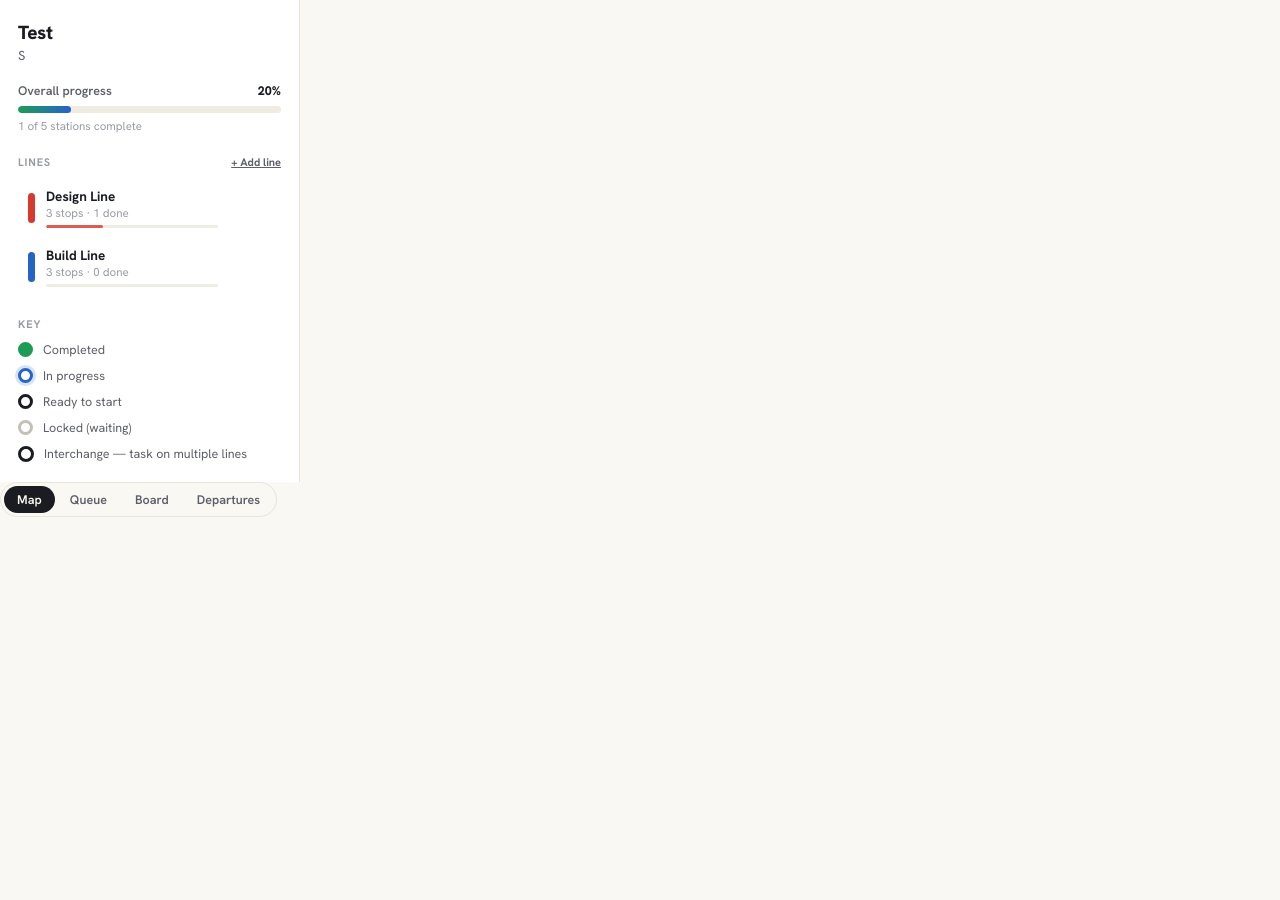
Scenario: line filtering on the boards › Board fades the stations off the selected line by default
This screenshot has width=1280, height=900.
Expected: the element with class "lines-list" is shown, x1=18 y1=179 x2=228 y2=295
Click the button "Board" at [152, 500], box x1=122 y1=486 x2=182 y2=513
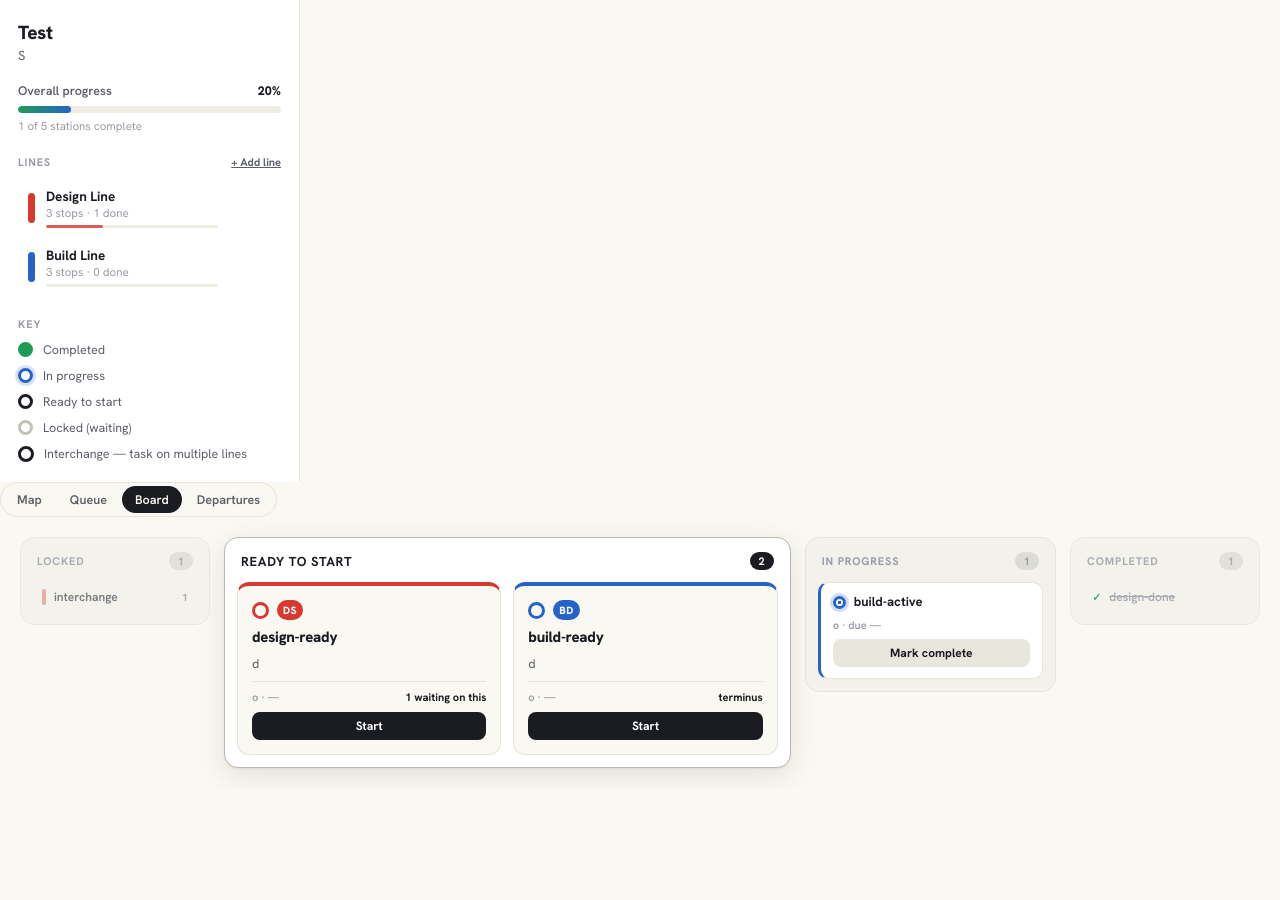
Expected: the element with class "board" is shown, x1=0 y1=517 x2=1279 y2=788
Click the button with class "line-row-btn" showing "Design Line 3 stops · 1 done" at [123, 208], box x1=18 y1=179 x2=228 y2=236
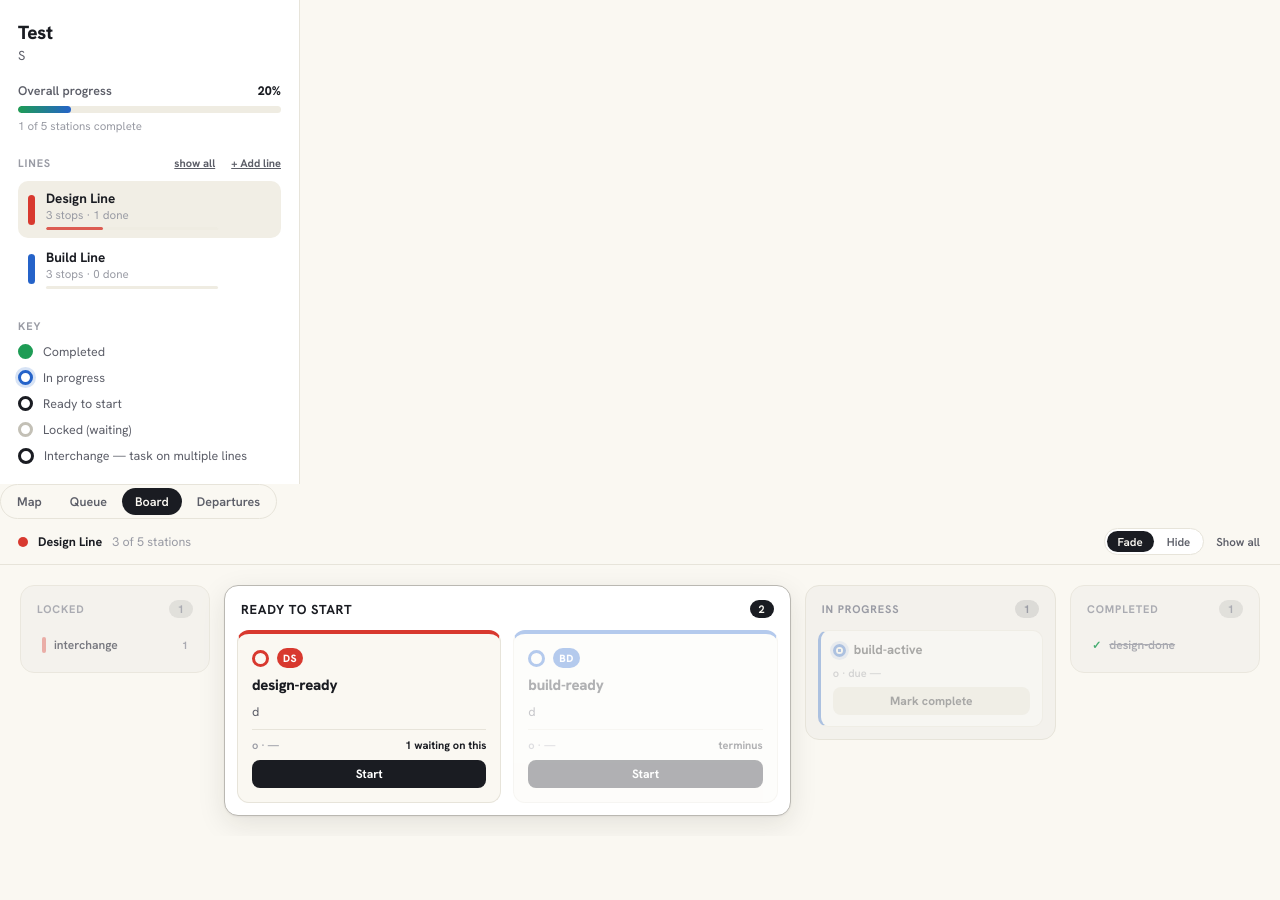
Expected: the element with class "filter-bar" is shown, x1=0 y1=519 x2=1279 y2=565
